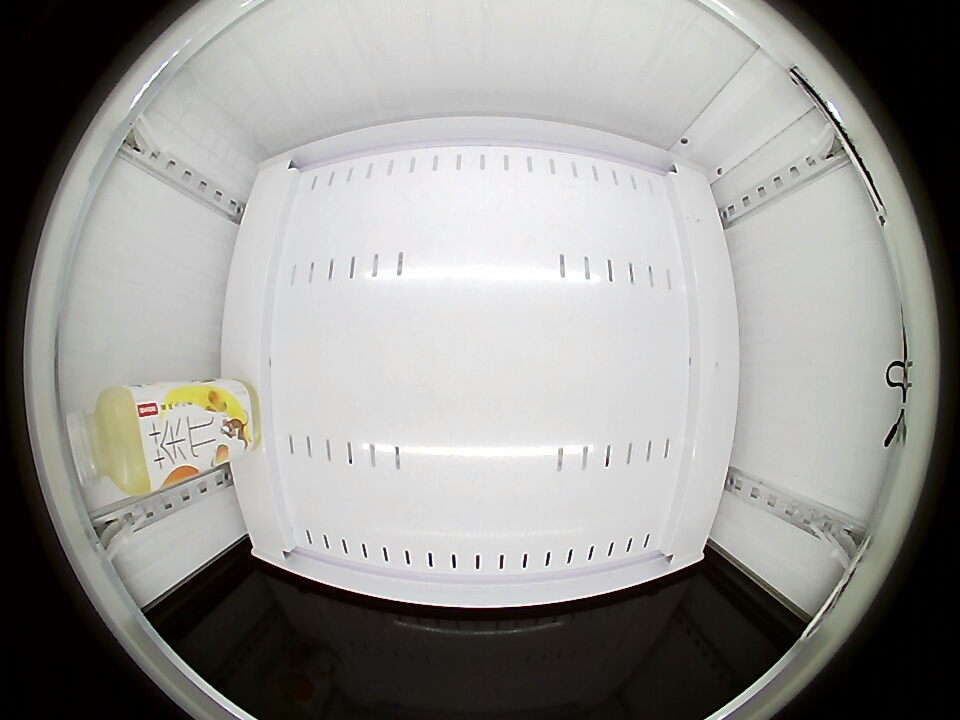chapai2: (66, 386, 154, 492)
